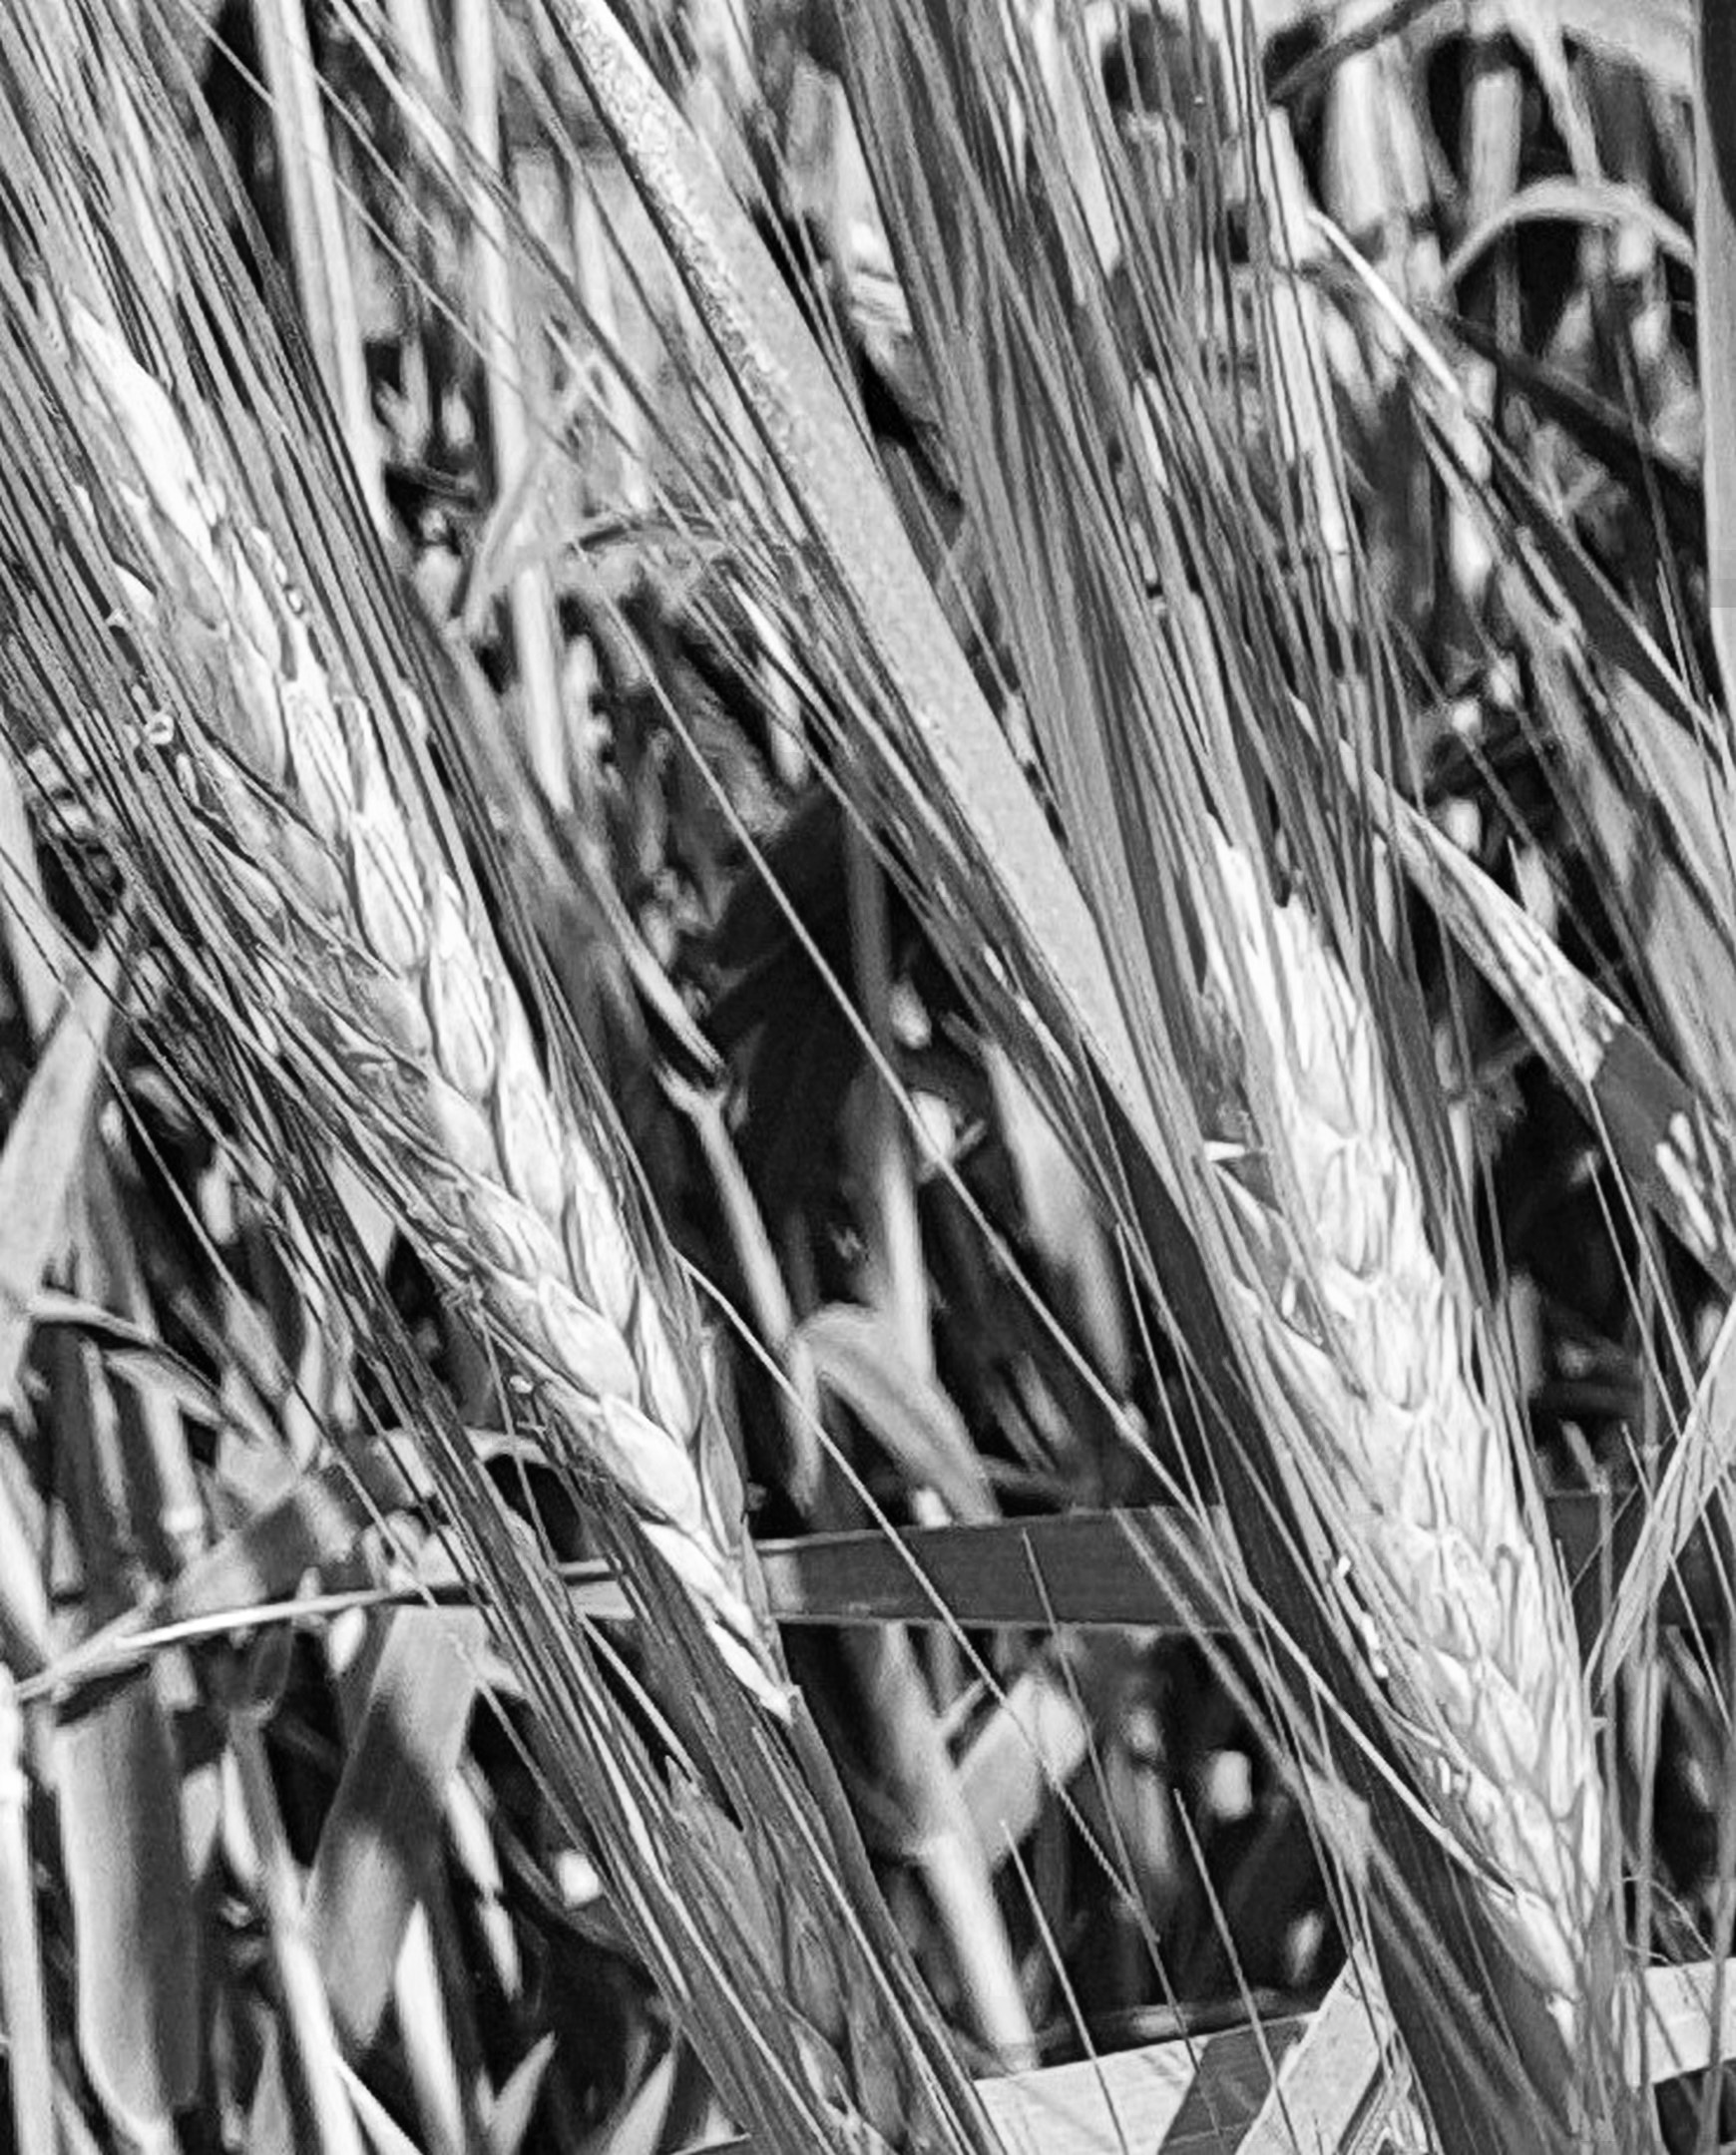Healthy Wheat: (27, 296, 840, 1601), (1123, 868, 1658, 1948)
